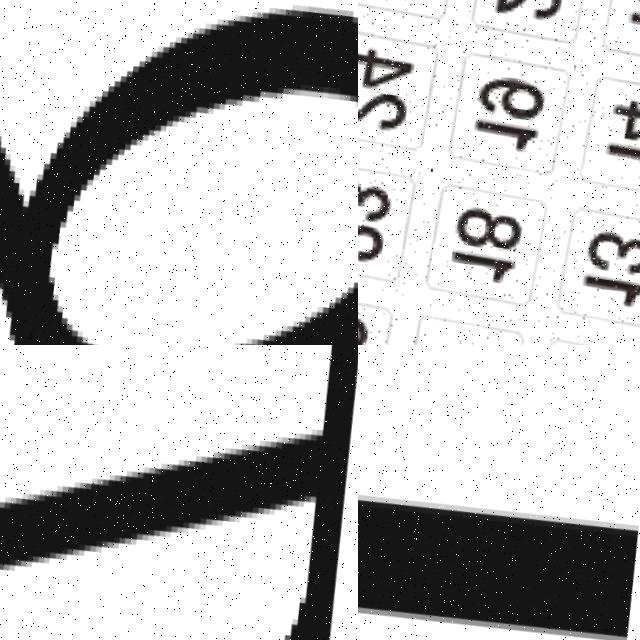1: (458, 109, 548, 161), (440, 244, 522, 298), (562, 268, 640, 319), (591, 138, 640, 183), (622, 6, 640, 54)
2: (358, 83, 415, 145), (488, 0, 573, 35), (358, 216, 387, 273), (358, 0, 437, 13)
3: (570, 221, 640, 283), (358, 168, 400, 232)
4: (358, 39, 420, 95), (598, 92, 640, 153)
8: (444, 198, 541, 260)
9: (465, 63, 551, 129)
Q: (0, 0, 358, 345)
T: (0, 345, 358, 640)
U: (358, 345, 640, 640)
